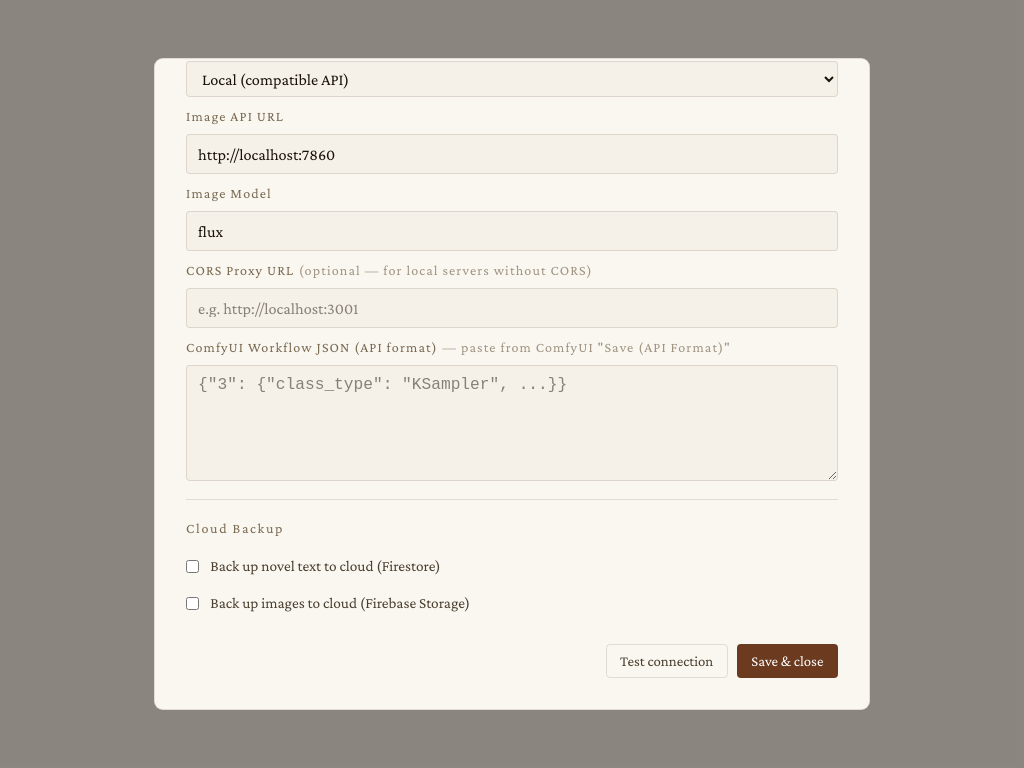
it: SettingsModal › integration - testing connection › shows loading state while testing
(page scrolled)
Click the button "Test connection".
click(667, 661)  # box x1=606 y1=644 x2=728 y2=678
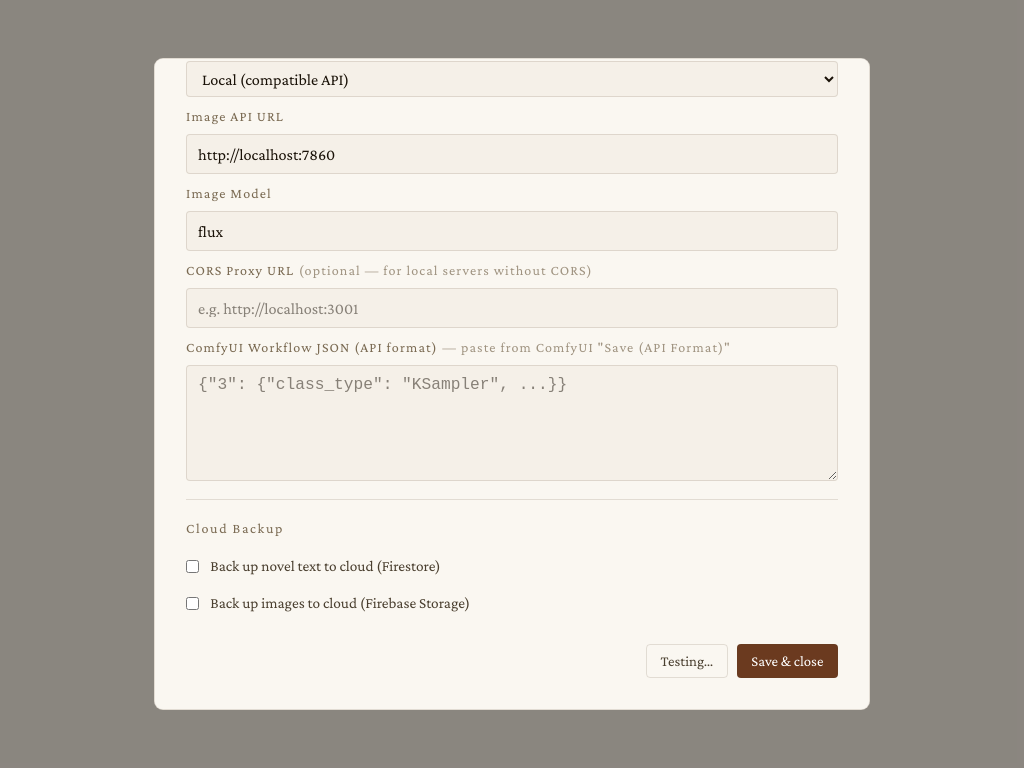
Expected: the button named "test connection" shows "Testing", x1=646 y1=644 x2=728 y2=678
